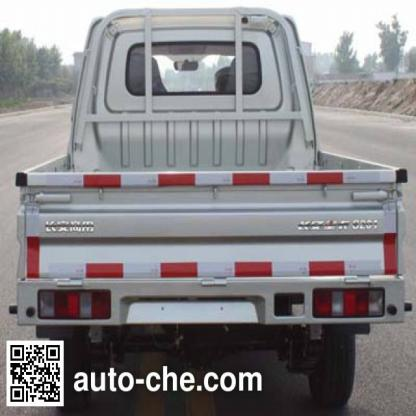normal-truck: (14, 15, 414, 336)
